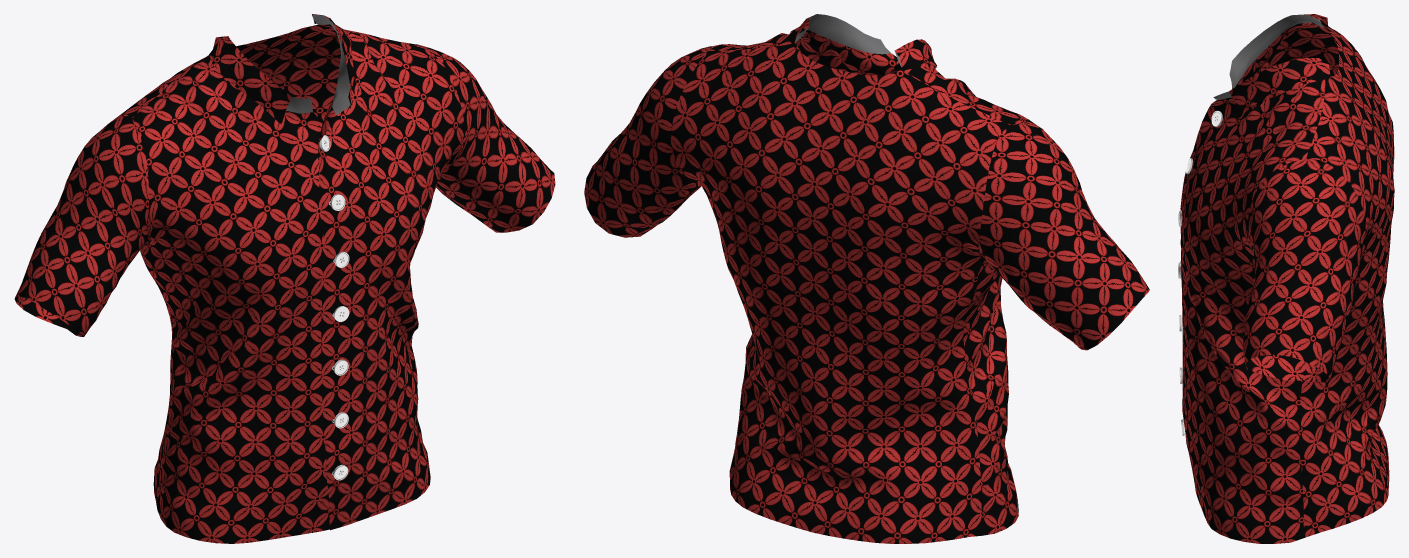
The model's file is Baju_Pendek.fbx.
3 views of the same model, side by side, from view 1: azimuth 30°, elevation 25°; view 2: azimuth 150°, elevation 25°; view 3: azimuth 270°, elevation 25° (orthographic). The views are drawn at different scales.
Visible parts, largest first — view 1: Baju_Pendek; view 2: Baju_Pendek; view 3: Baju_Pendek.
Boxes of the visible parts, x1,y1,x2,y2 form: Baju_Pendek: (14, 14, 555, 543); Baju_Pendek: (584, 14, 1149, 543); Baju_Pendek: (1178, 14, 1394, 543).
Size of the model in its own units: 736 by 619 by 268.
4 materials, 2 textured.
